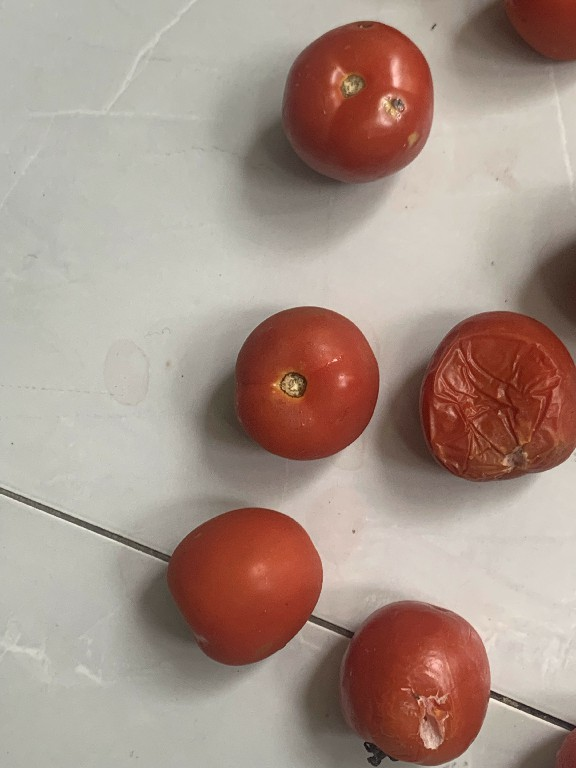NG: (268, 14, 447, 188), (415, 297, 575, 481), (331, 595, 501, 767)
OK: (159, 501, 325, 666), (225, 303, 382, 470)
